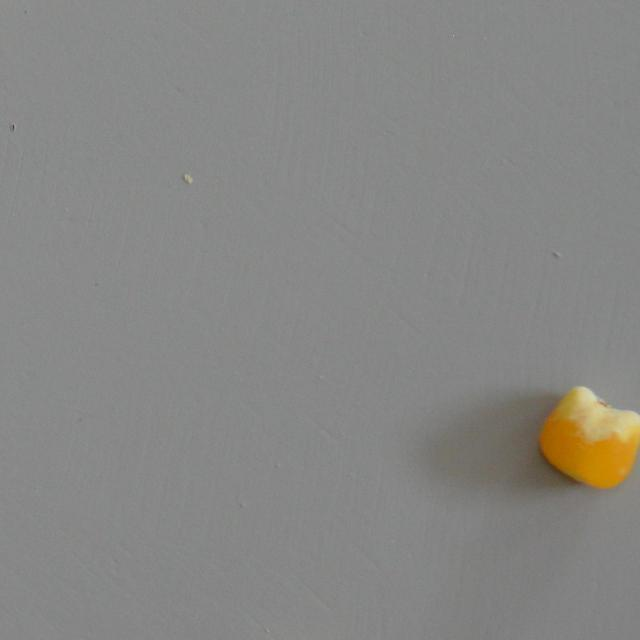punto_negro: (534, 382, 640, 490)
